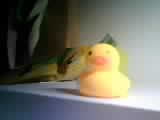duck: (69, 44, 131, 98)
